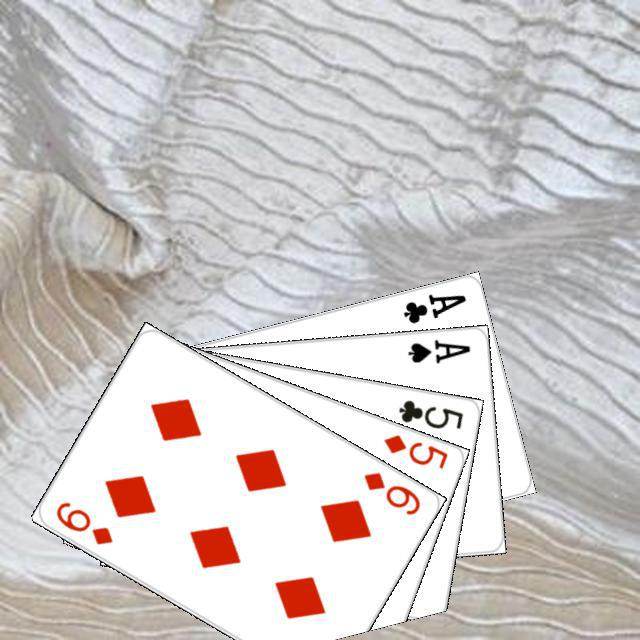5c: (393, 395, 465, 431)
5d: (379, 429, 450, 471)
6d: (51, 496, 115, 547), (358, 467, 422, 517)
Ac: (398, 289, 468, 326)
As: (403, 334, 472, 365)
